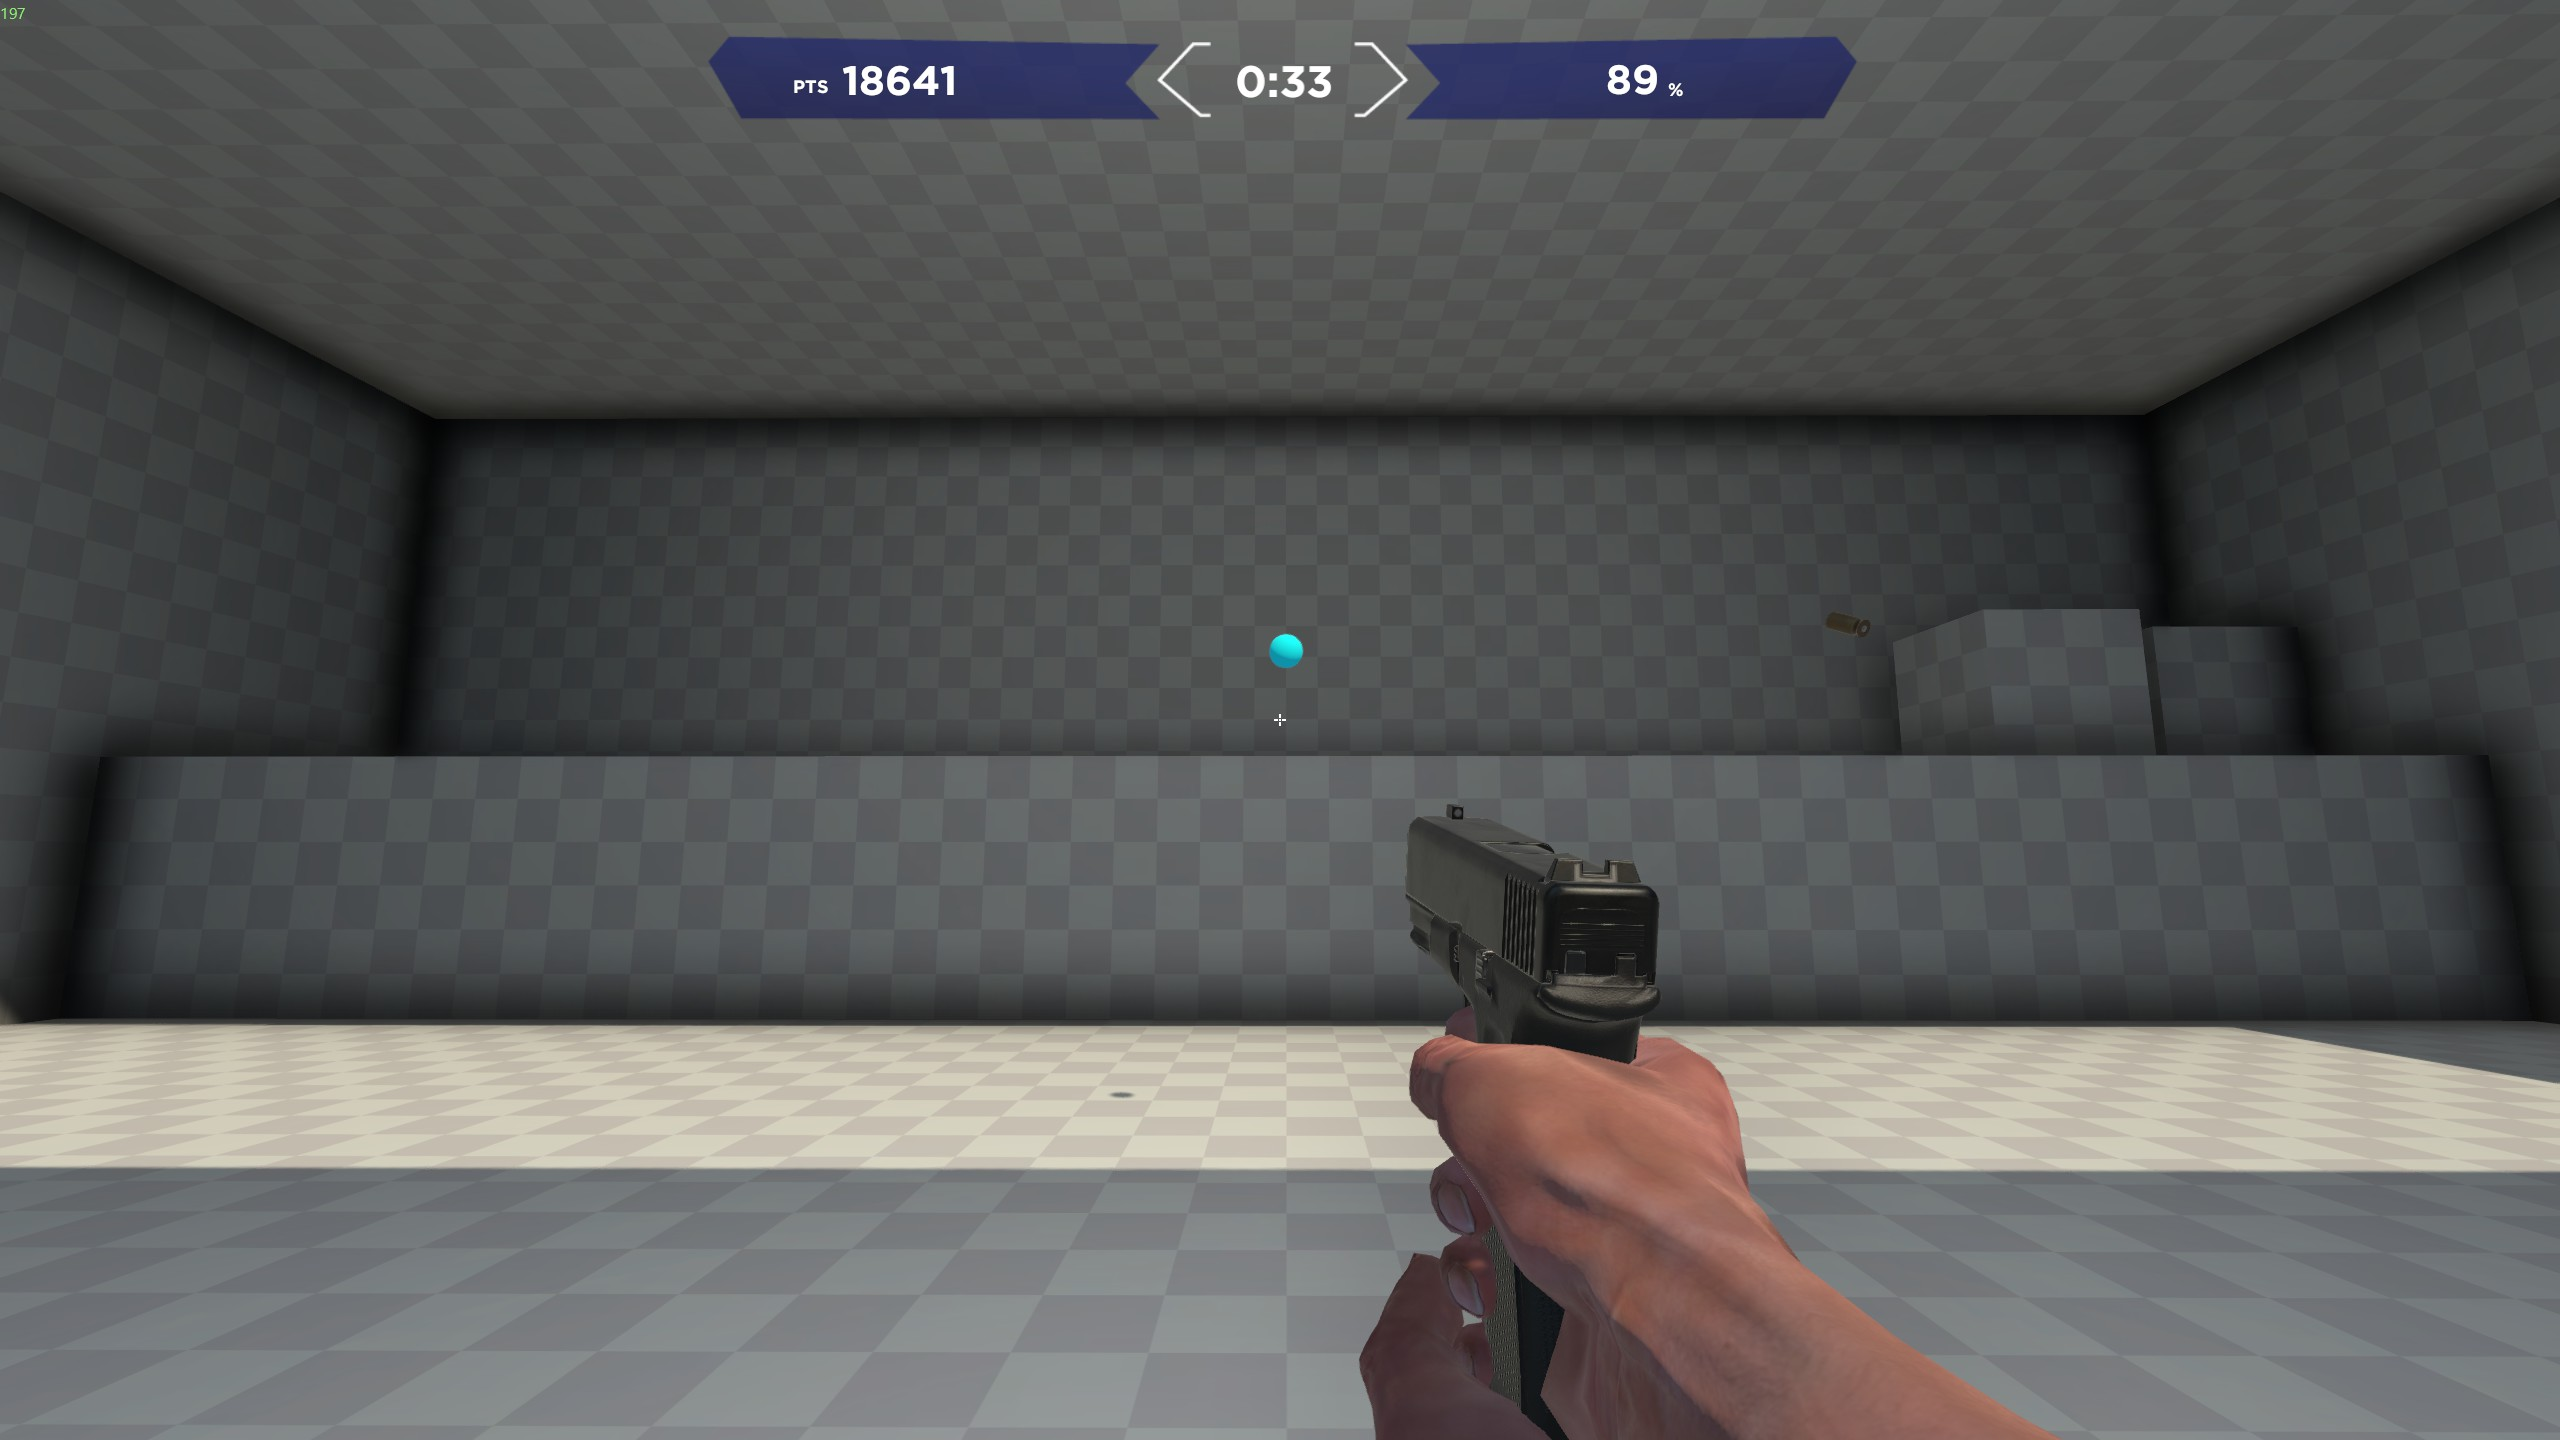Target: (1264, 635, 1312, 670)
